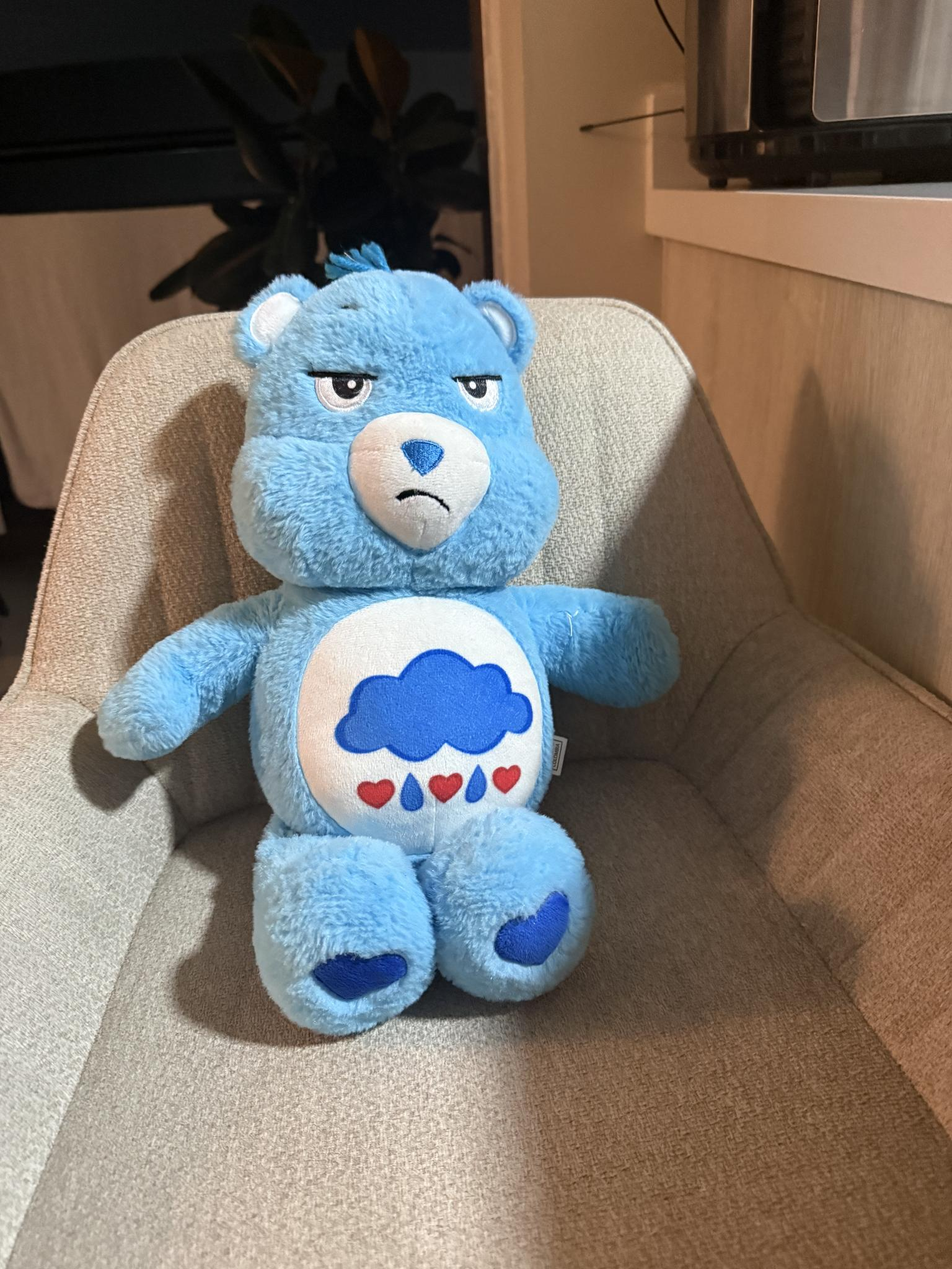peluche_Juan Jose: (91, 264, 680, 1042)
